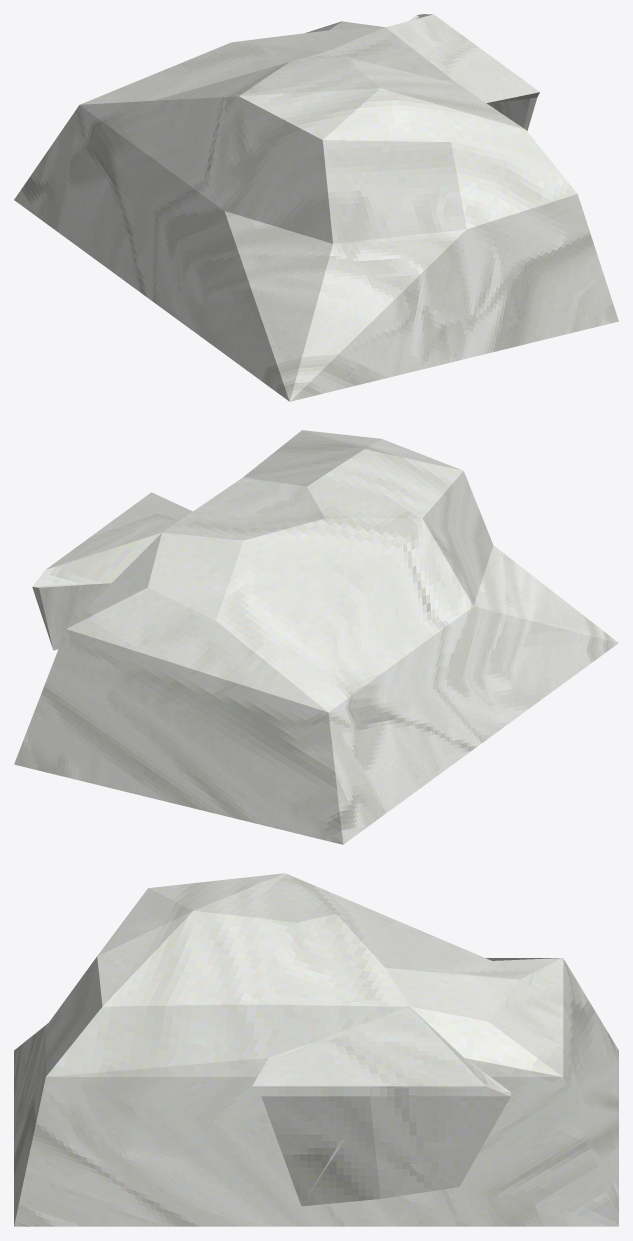
File: SM_Laundry.fbx
3 views of the same model, one above another, from view 1: azimuth 30°, elevation 25°; view 2: azimuth 150°, elevation 25°; view 3: azimuth 270°, elevation 25° (orthographic). The views are drawn at different scales.
Visible parts, largest first — view 1: SM_Laundry; view 2: SM_Laundry; view 3: SM_Laundry.
Boxes of the visible parts, bbox=[...] form: SM_Laundry: bbox=[14, 14, 618, 401]; SM_Laundry: bbox=[14, 430, 618, 844]; SM_Laundry: bbox=[14, 873, 618, 1226].
Bounding box in the file's own units: 69.46 × 38.76 × 91.52.
